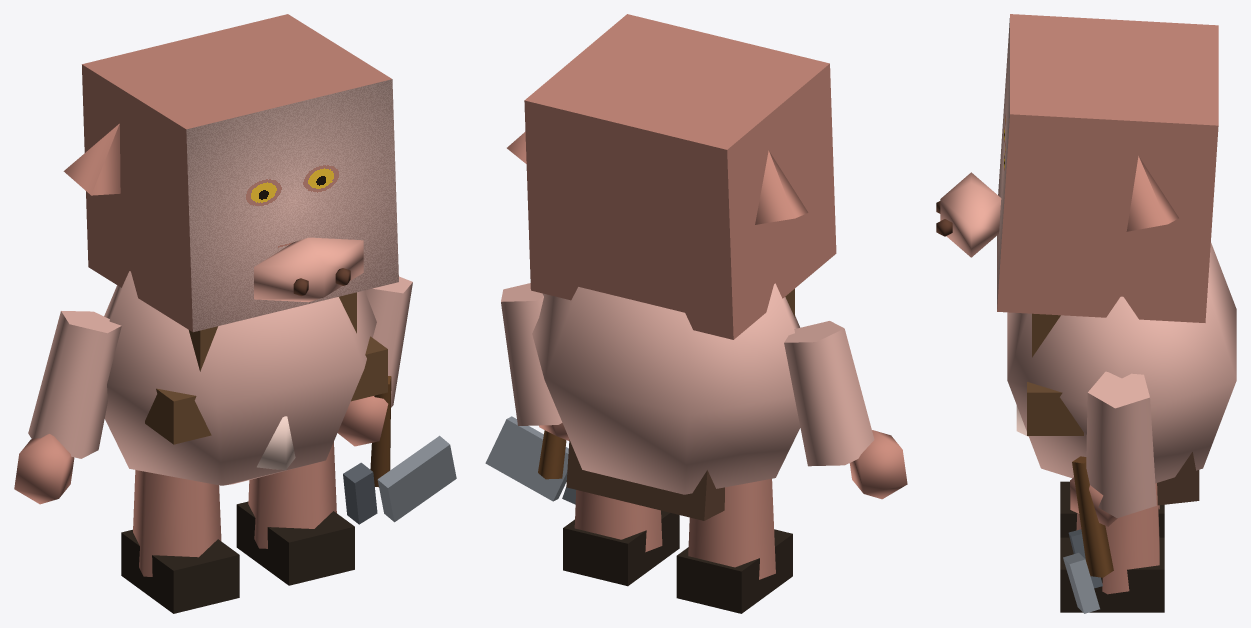
Rendered from OrcInfantry.glb.
3 renders of one model, left to right at view 1: azimuth 30°, elevation 25°; view 2: azimuth 150°, elevation 25°; view 3: azimuth 270°, elevation 25°, orthographic.
Visible parts, largest first — view 1: object 6, object 1, object 13, object 17, OrcAxe, object 20, object 18, object 19, object 8, OrcRightArm, object 3, object 14 (+3 smaller); view 2: object 6, object 1, object 13, object 17, OrcRightArm, object 18, object 20, OrcAxe, object 5, object 19, object 14, object 11; view 3: object 6, object 1, OrcRightArm, OrcAxe, object 19, object 8, object 20, object 3, object 12, object 5, object 18, object 4.
Boxes of the visible parts, x1,y1,x2,y2 form: object 6: (82, 14, 398, 332); object 1: (104, 271, 376, 485); object 13: (28, 311, 121, 458); object 17: (133, 470, 221, 576); OrcAxe: (343, 376, 456, 524); object 20: (236, 501, 354, 585); object 18: (121, 529, 239, 613); object 19: (248, 442, 336, 548); object 8: (254, 237, 363, 302); OrcRightArm: (337, 276, 412, 446); object 3: (145, 336, 387, 444); object 14: (14, 434, 74, 504); object 6: (524, 14, 836, 339); object 1: (532, 283, 800, 494); object 13: (784, 321, 874, 466); object 17: (688, 478, 775, 579); OrcRightArm: (501, 283, 569, 440); object 18: (676, 529, 792, 613); object 20: (563, 510, 679, 586); OrcAxe: (485, 416, 575, 504); object 5: (566, 439, 724, 520); object 19: (574, 490, 662, 552); object 14: (849, 430, 907, 499); object 11: (755, 150, 808, 224); object 6: (997, 14, 1218, 322); object 1: (1007, 243, 1236, 483); OrcRightArm: (1070, 371, 1156, 526); OrcAxe: (1063, 456, 1113, 613); object 19: (1076, 483, 1159, 594); object 8: (940, 172, 1001, 257); object 20: (1060, 537, 1164, 612); object 3: (1027, 382, 1083, 435); object 12: (1126, 156, 1178, 231); object 5: (1157, 452, 1199, 505); object 18: (1060, 481, 1164, 537); object 4: (1032, 313, 1060, 357).
Size of the model in its own units: 1.05 by 1.17 by 0.6326.
Materials: 12 (1 with a texture image).
